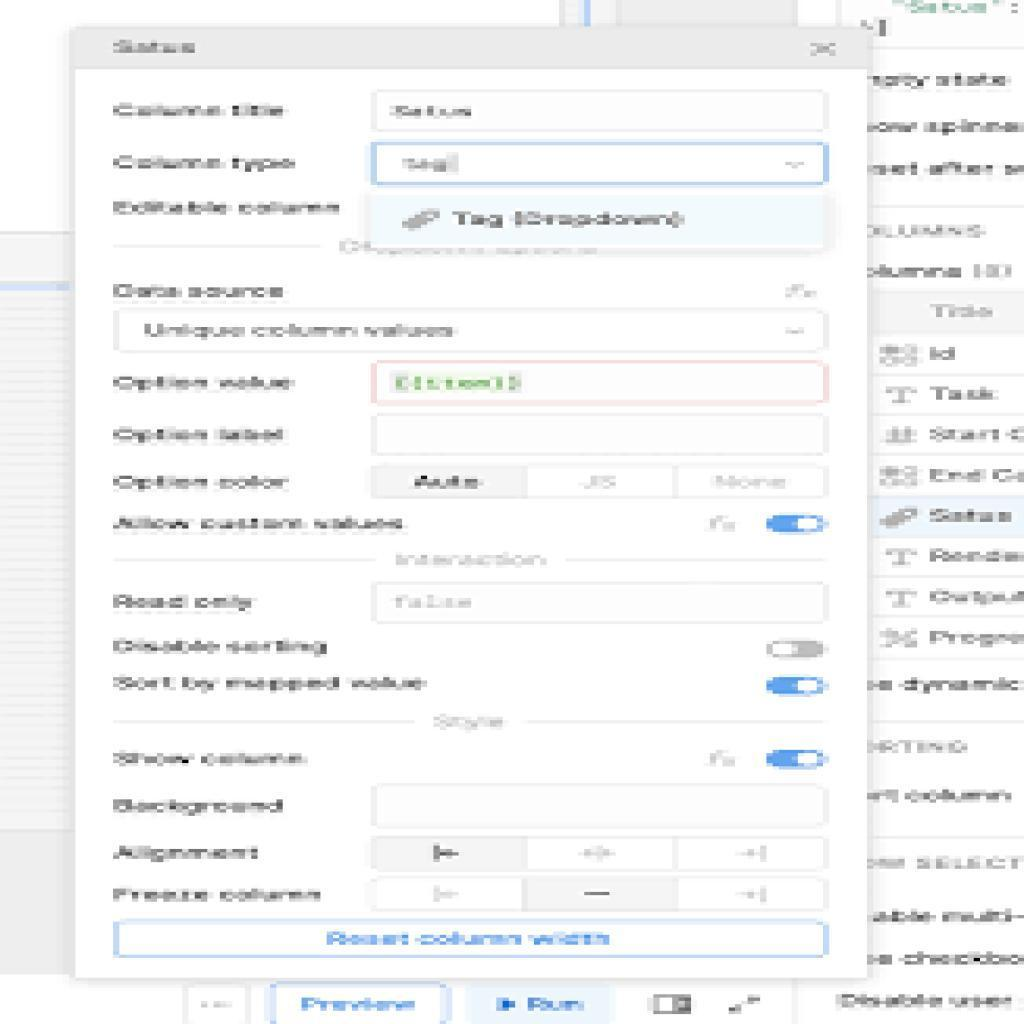button: (111, 922, 832, 962), (268, 980, 448, 1024), (468, 987, 618, 1024), (371, 467, 532, 501), (526, 464, 674, 499), (677, 467, 830, 500)
dropdown: (111, 310, 830, 352), (374, 146, 830, 186)
icon: (567, 842, 634, 872), (644, 991, 697, 1024), (725, 987, 763, 1024), (425, 838, 467, 869), (427, 882, 470, 910), (732, 841, 771, 869), (737, 882, 777, 906), (581, 885, 624, 903)
input: (371, 361, 829, 404), (368, 581, 831, 623), (372, 785, 829, 827), (372, 91, 829, 132), (371, 414, 827, 453)
switch: (763, 749, 834, 772), (767, 674, 834, 697), (769, 515, 833, 538), (768, 642, 830, 661)
